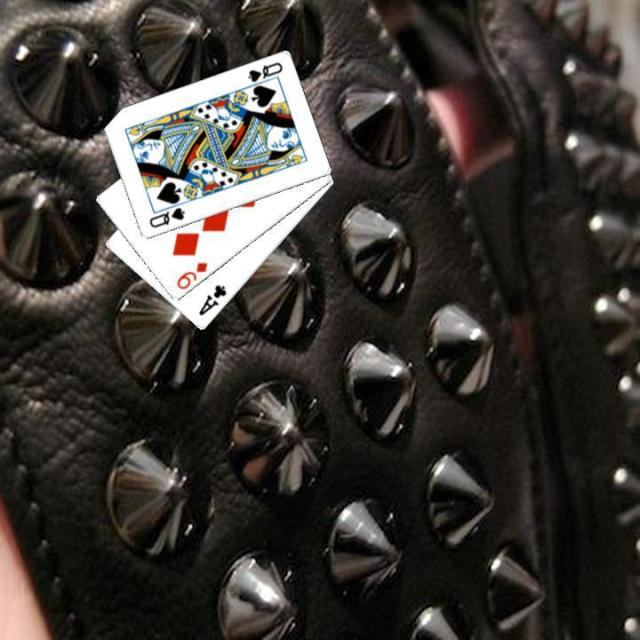9D: (172, 258, 209, 292)
AC: (194, 281, 228, 317)
QS: (145, 204, 187, 230), (243, 59, 284, 85)
